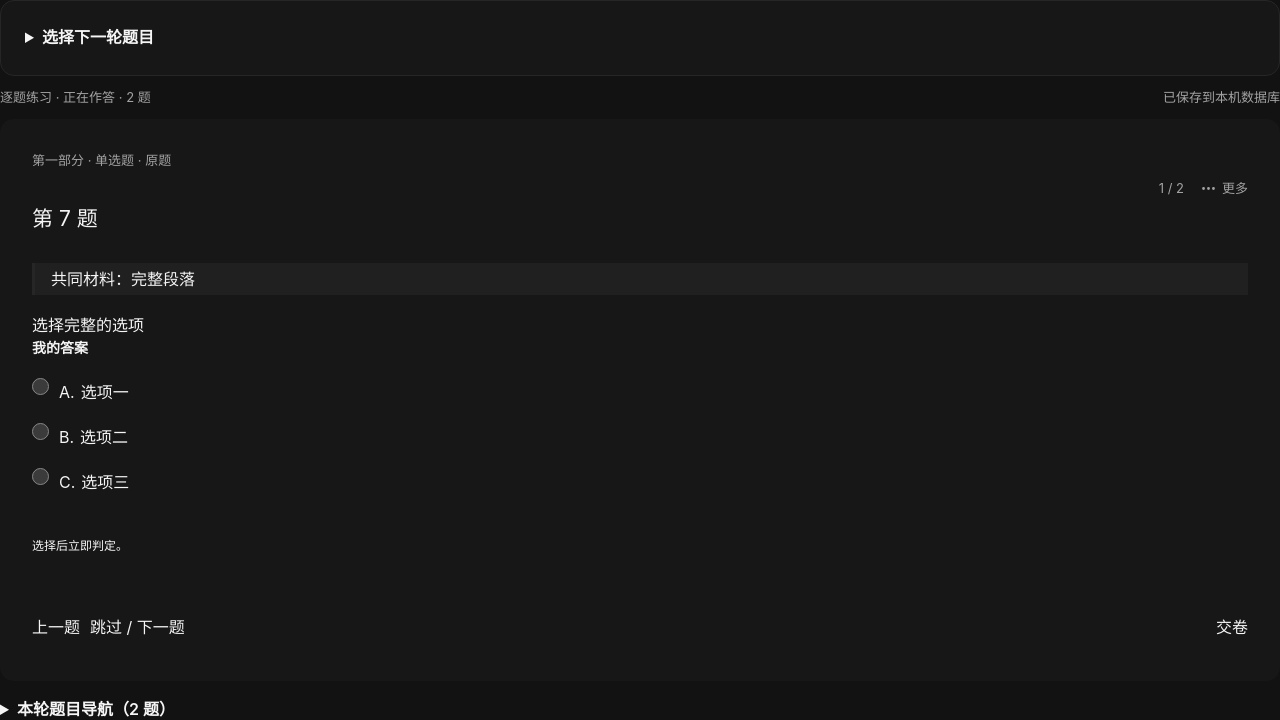
it: keeps correctness visible but conceals the answer and explanation when automatic expansion is off
This screenshot has width=1280, height=720.
Click the button "更多".
click(1224, 189)  # box [1200, 179, 1248, 199]
(page scrolled)
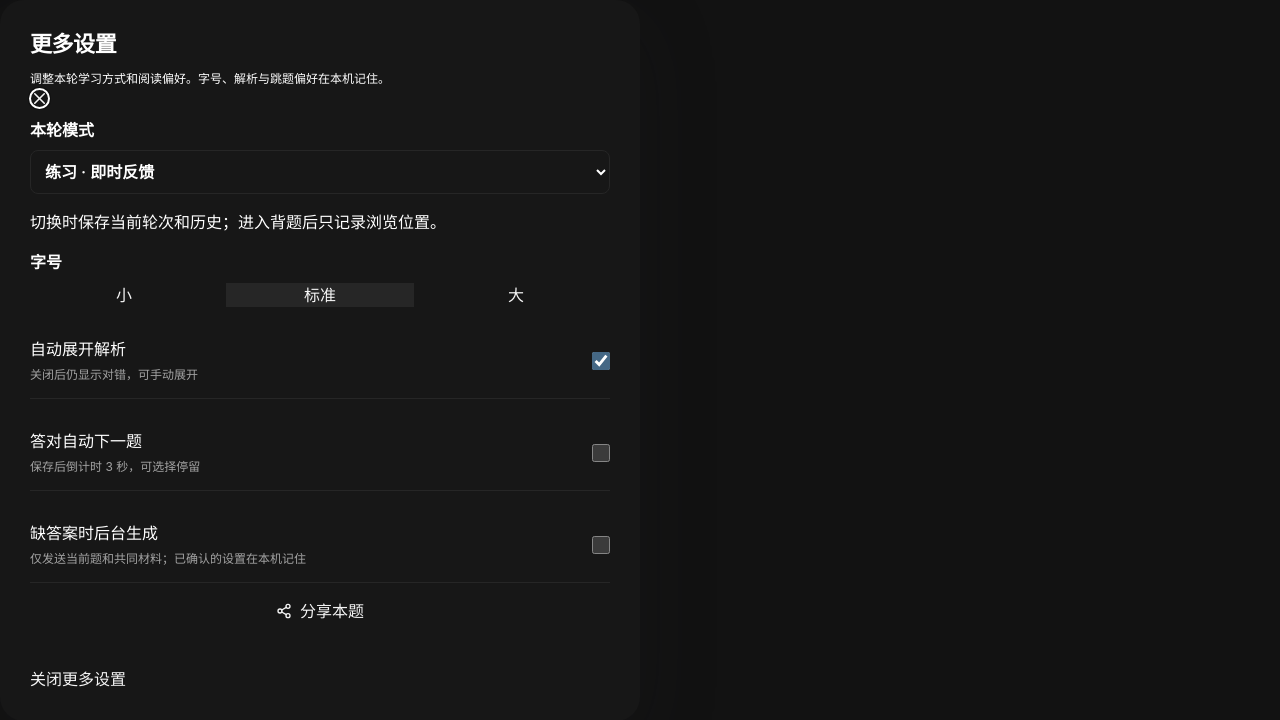
Click the checkbox named "自动展开解析".
click(601, 361)  # box [592, 352, 610, 370]
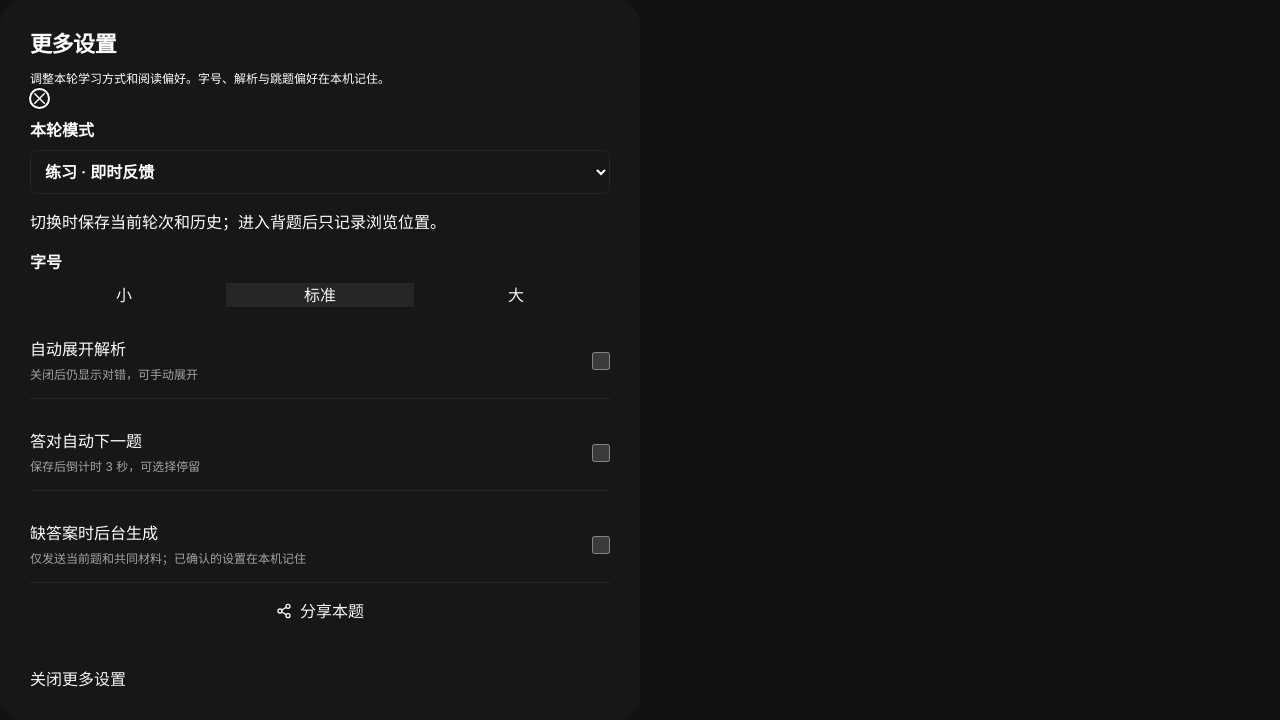
Click the button "关闭更多设置".
click(78, 679)  # box [30, 667, 126, 691]
(page scrolled)
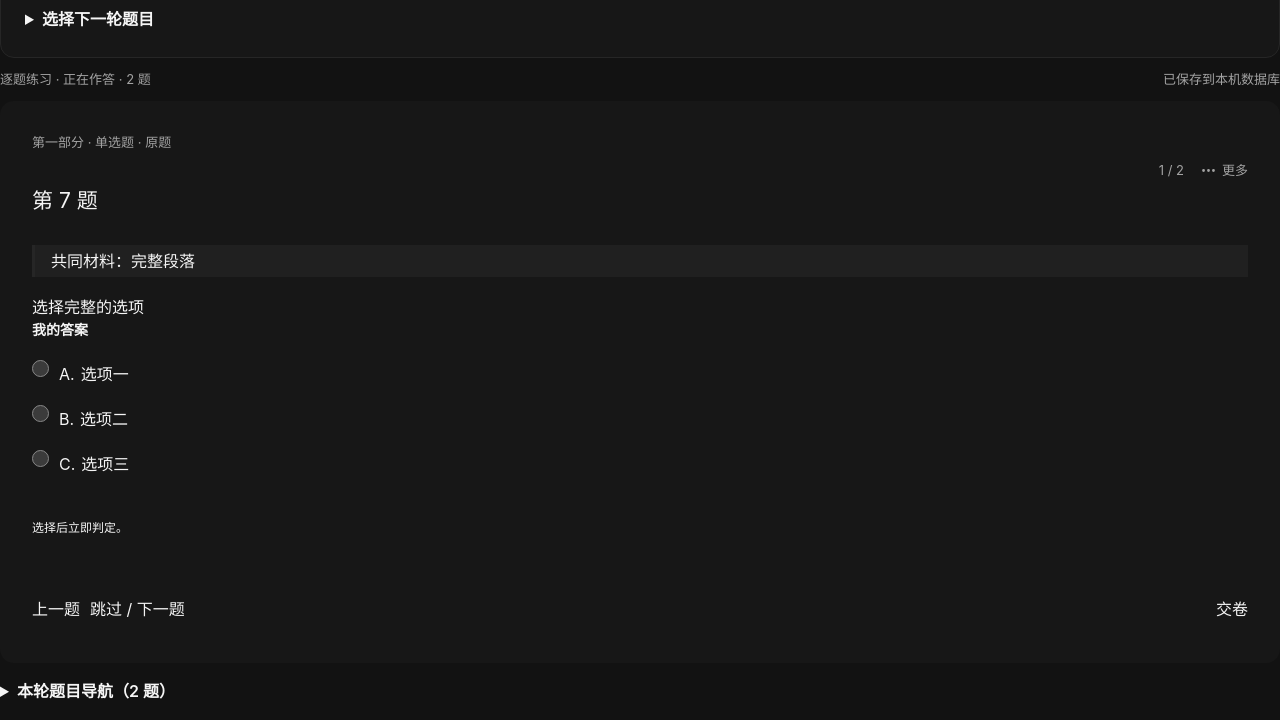
Click the radio button labelled "A. 选项一".
click(40, 369)  # box [32, 360, 49, 378]
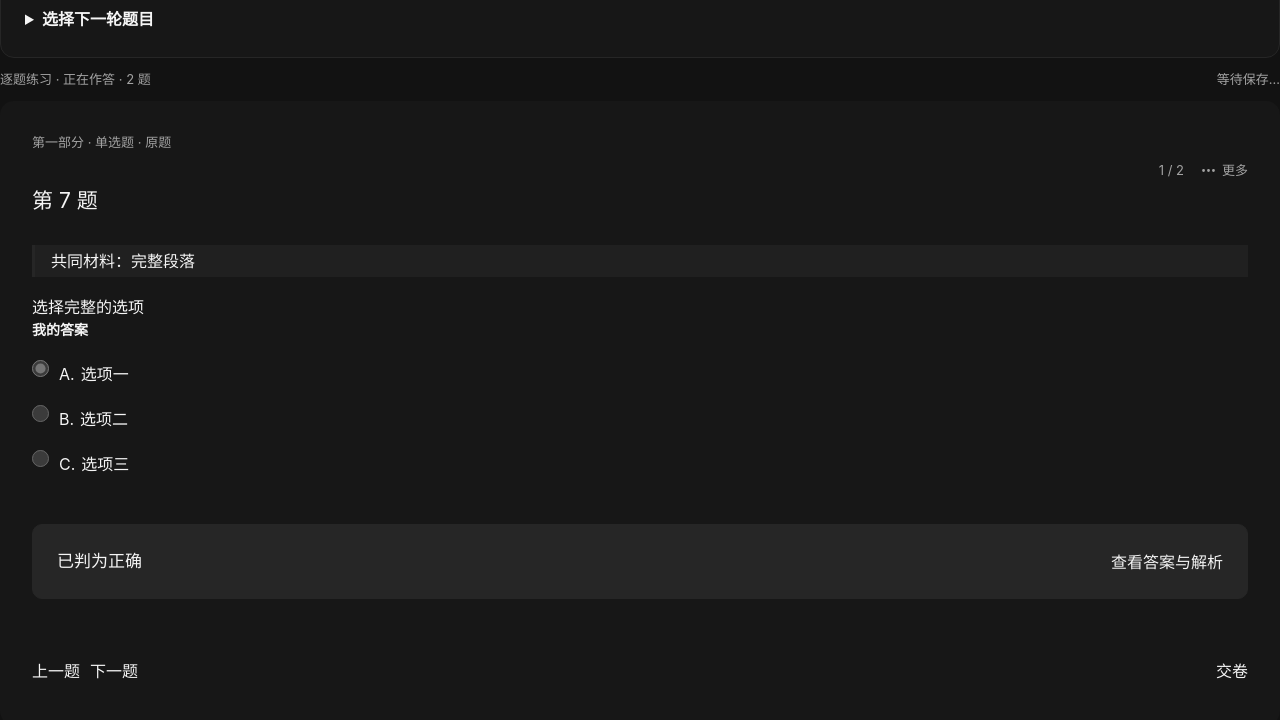
Expected: the text "答案解析秘密" is not shown
Now the element showing "已判为正确 查看答案与解析" is shown, box [32, 524, 1248, 599]
Click the button "查看答案与解析".
click(1167, 562)  # box [1111, 550, 1223, 574]
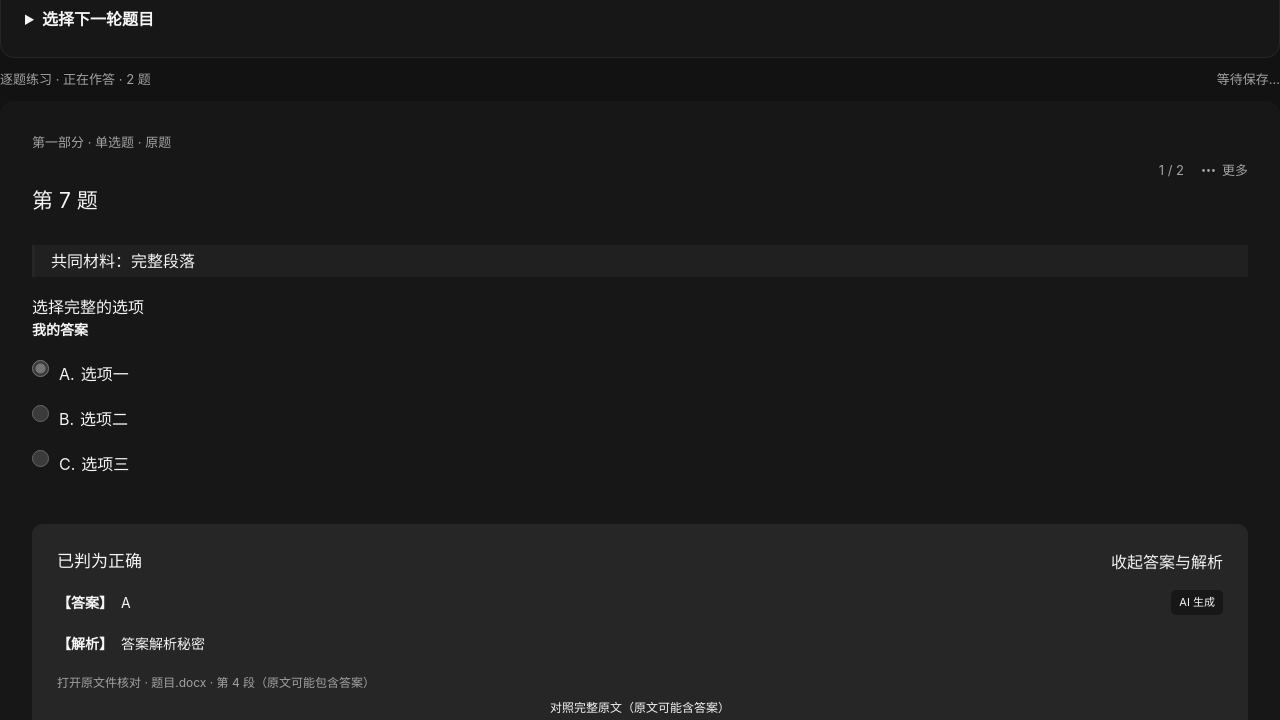
Now the text "答案解析秘密" is shown, box [121, 635, 205, 652]
